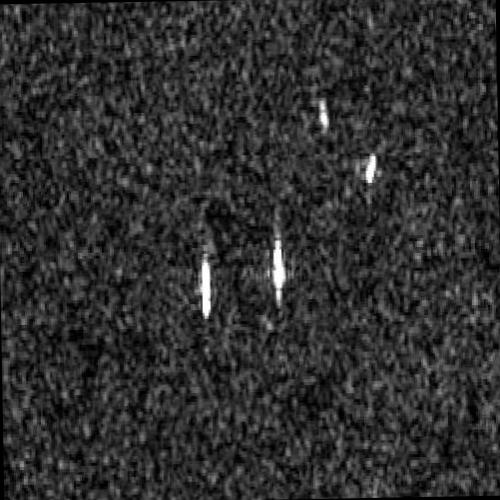ship: (273, 232, 285, 307), (200, 253, 213, 321), (365, 152, 377, 185), (318, 98, 330, 131)
